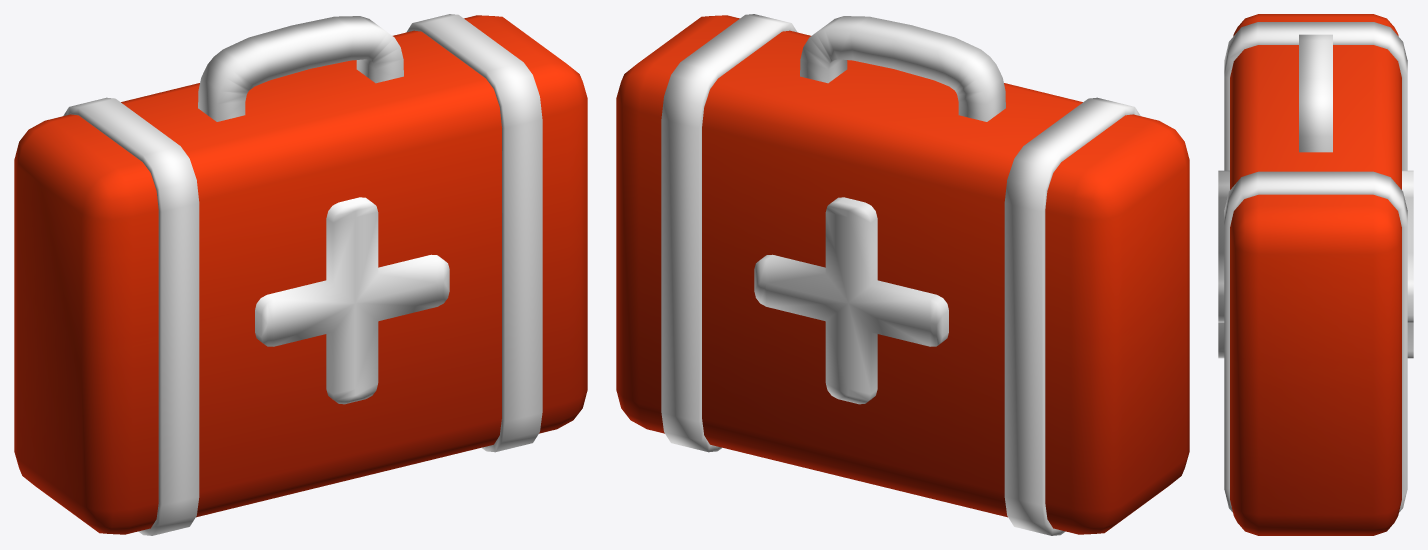
Rendered from Collectable_Medkit_01.fbx.
3 views of the same model, side by side, from view 1: azimuth 30°, elevation 25°; view 2: azimuth 150°, elevation 25°; view 3: azimuth 270°, elevation 25° (orthographic). The views are drawn at different scales.
Visible parts, largest first — view 1: Collectable_Medkit_01; view 2: Collectable_Medkit_01; view 3: Collectable_Medkit_01.
Boxes of the visible parts, x1,y1,x2,y2 form: Collectable_Medkit_01: [14, 14, 587, 535]; Collectable_Medkit_01: [616, 14, 1189, 535]; Collectable_Medkit_01: [1218, 14, 1413, 535].
Bounding box in the file's own units: 54.35 × 44.7 × 20.45.
Materials: 1 (1 with a texture image).
